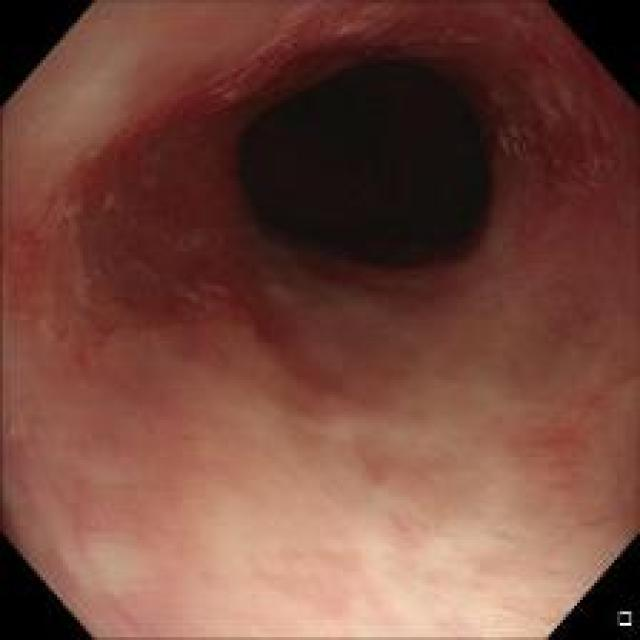blur: (29, 229, 564, 630)
contrast: (236, 22, 502, 276)
